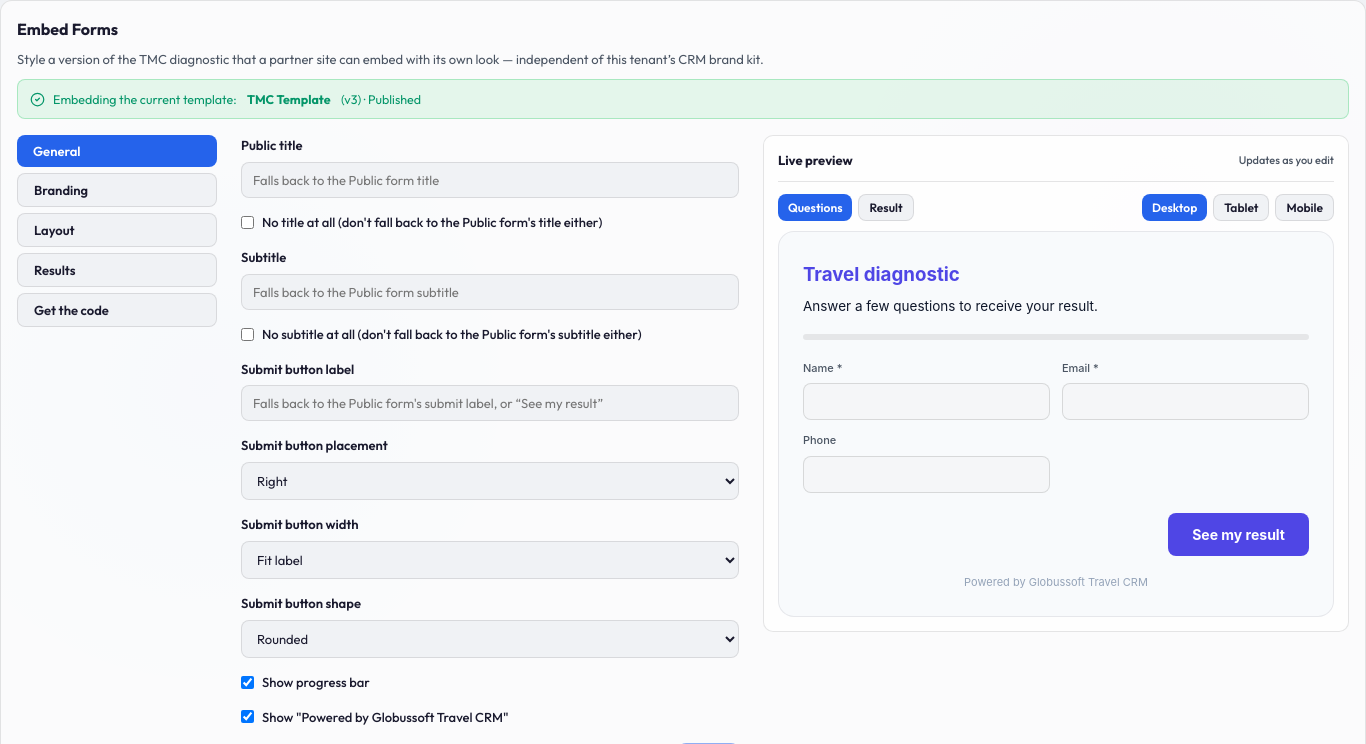
Test case: DiagnosticEmbedFormsPanel — title/subtitle/powered-by (2026-09-08 fixes) › "No subtitle at all" hides the subtitle even though the text field is empty (falls back otherwise)
Expected: the text "TMC Template" is shown, [244, 89, 333, 109]
Expected: the text "Answer a few questions to receive your result." is shown, [803, 298, 1098, 314]
Click the checkbox labelled "No subtitle at all": (248, 334) [241, 328, 254, 341]
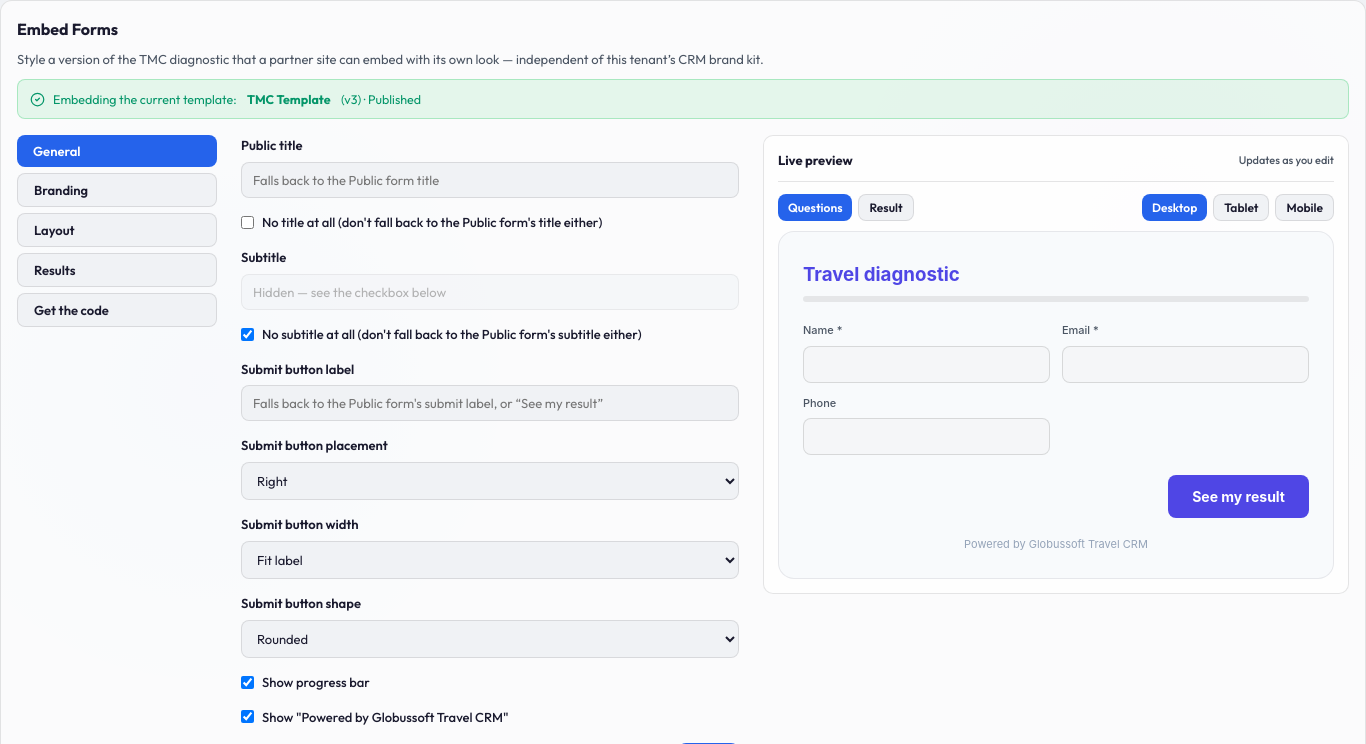
Result: the text "Answer a few questions to receive your result." is gone
